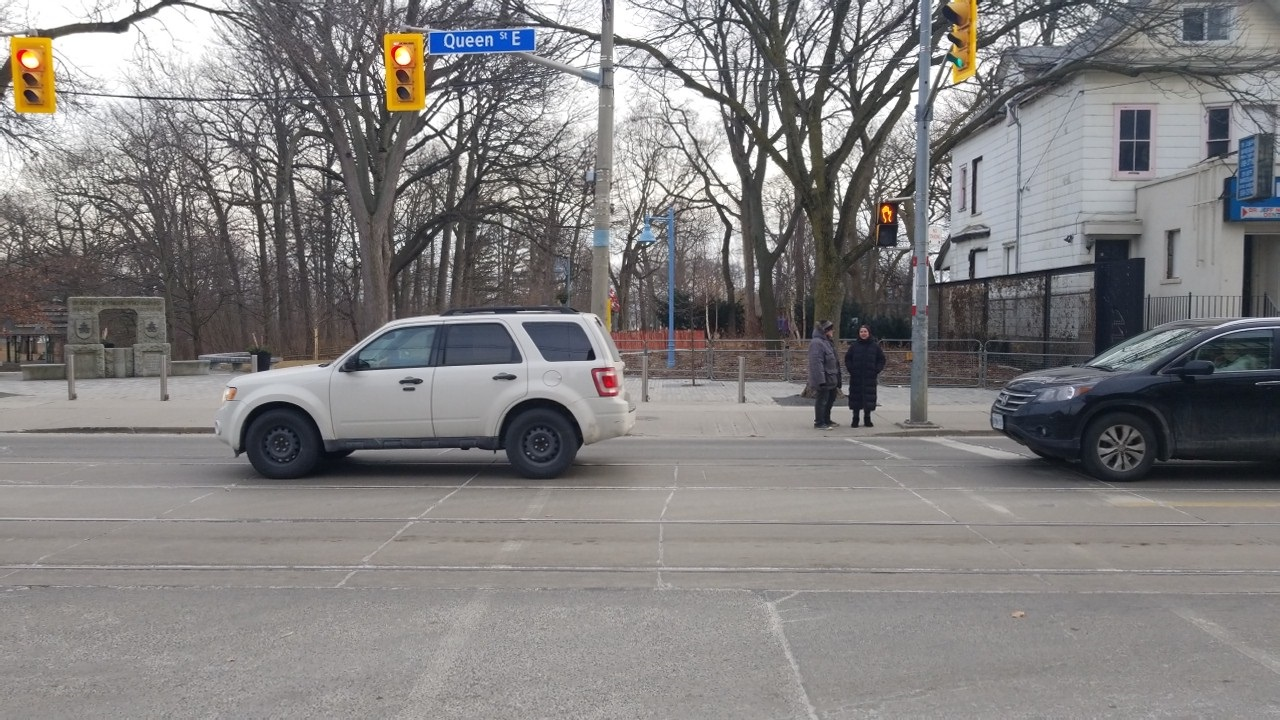light: (873, 198, 900, 249)
